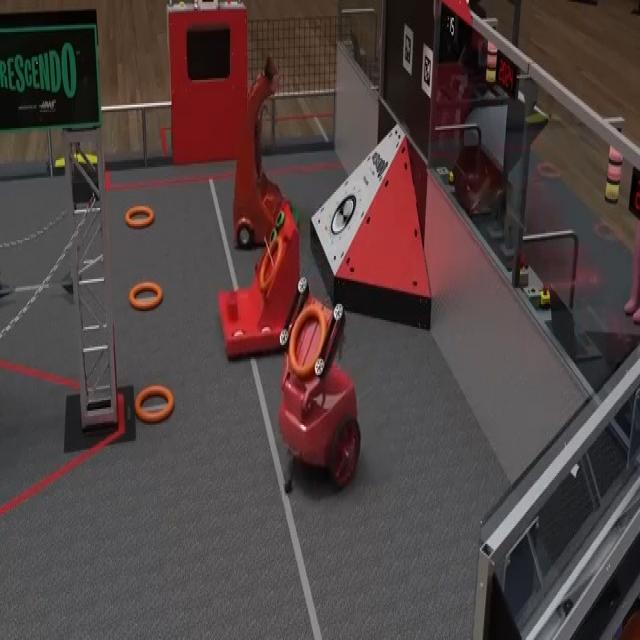notes: (134, 386, 176, 425), (128, 280, 163, 310), (124, 204, 157, 229)
